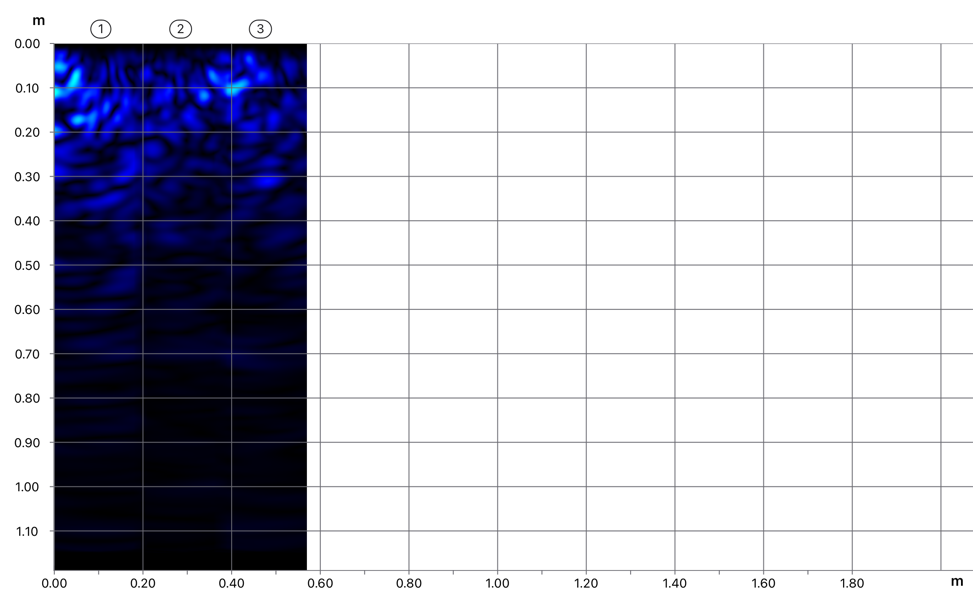crop: (0, 0, 308, 288)
